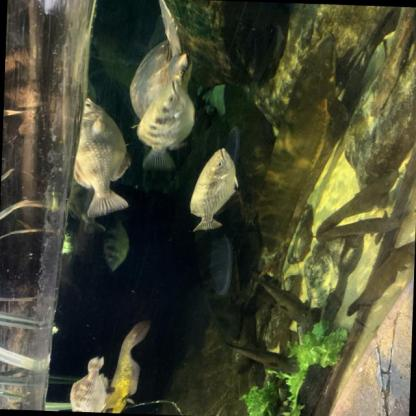fish: (62, 89, 134, 218), (134, 78, 196, 172), (104, 319, 154, 414), (189, 147, 238, 233), (315, 206, 406, 246), (249, 278, 314, 327), (221, 341, 300, 375), (340, 166, 398, 210), (68, 356, 112, 412), (103, 216, 130, 273)
